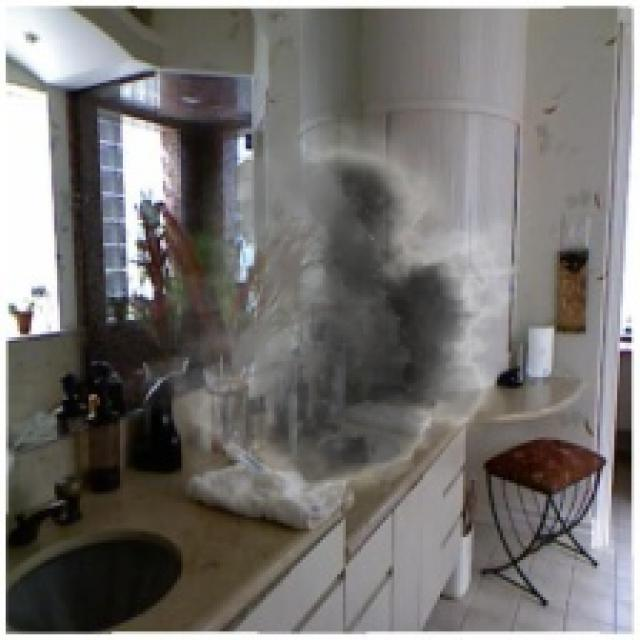smoke: (120, 117, 537, 529)
